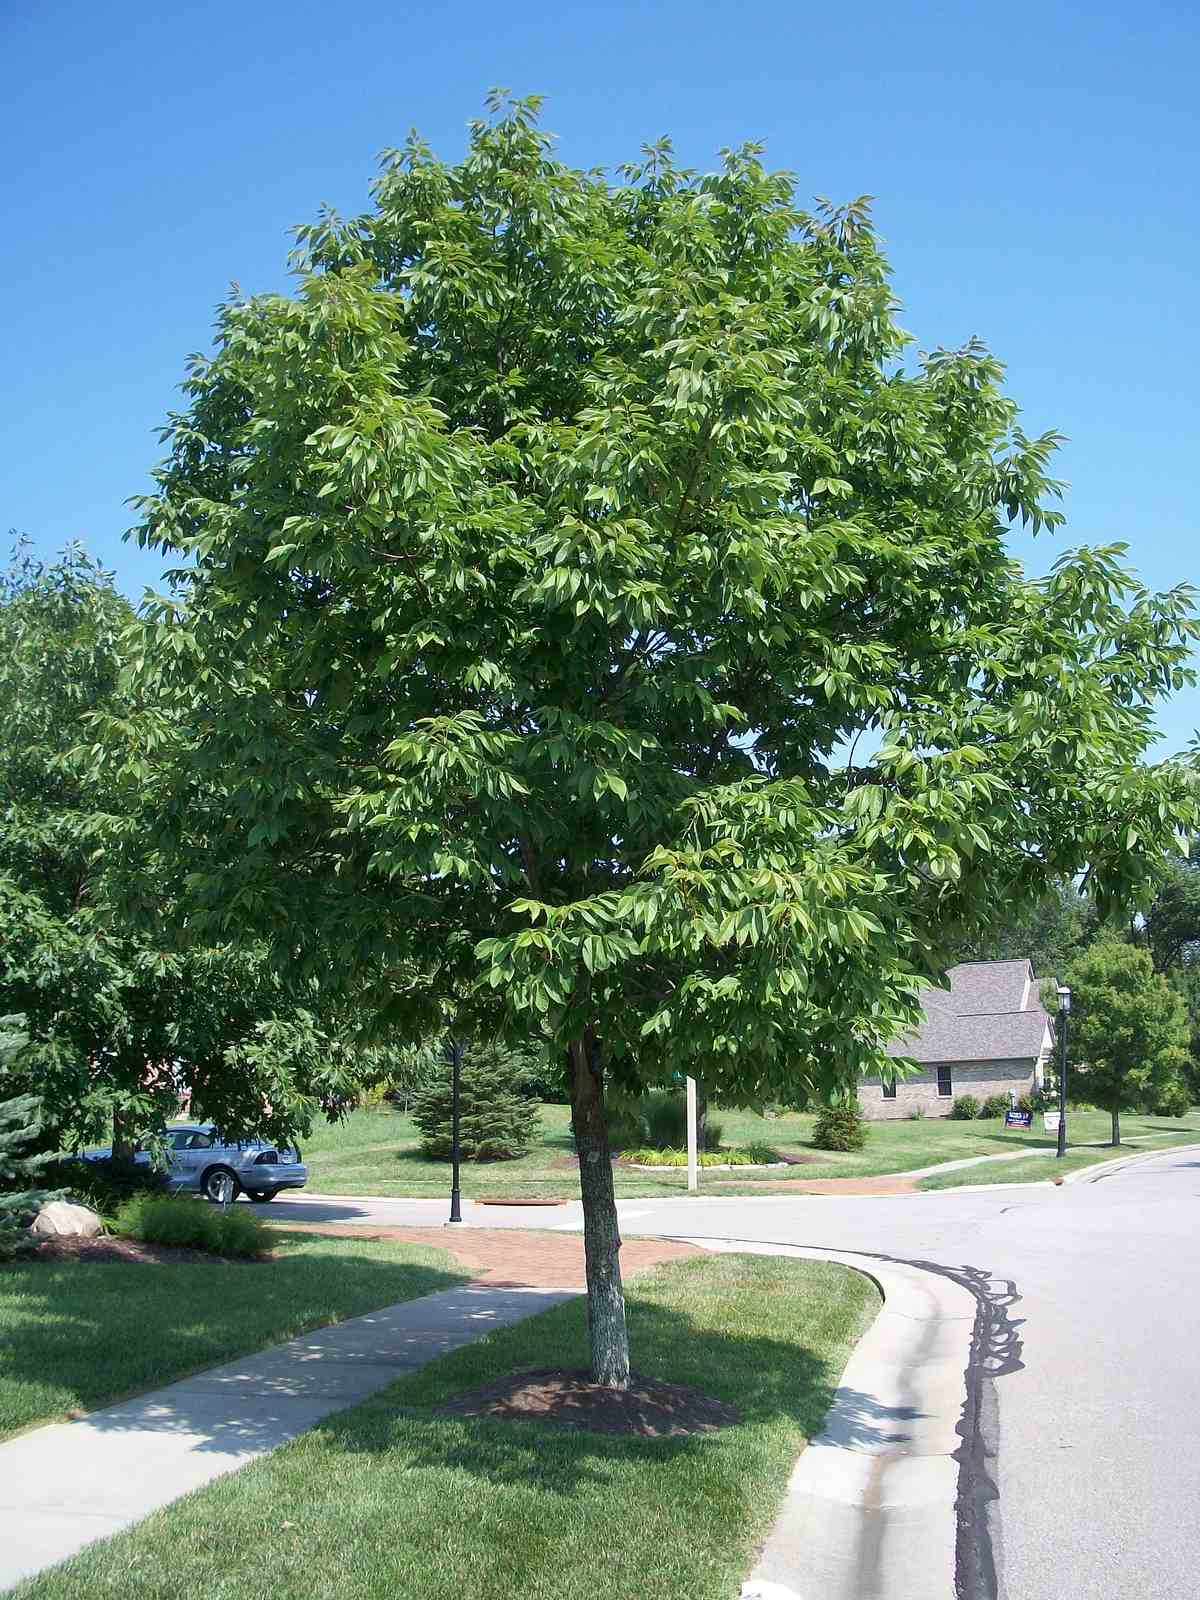tree: (71, 79, 1156, 1395)
